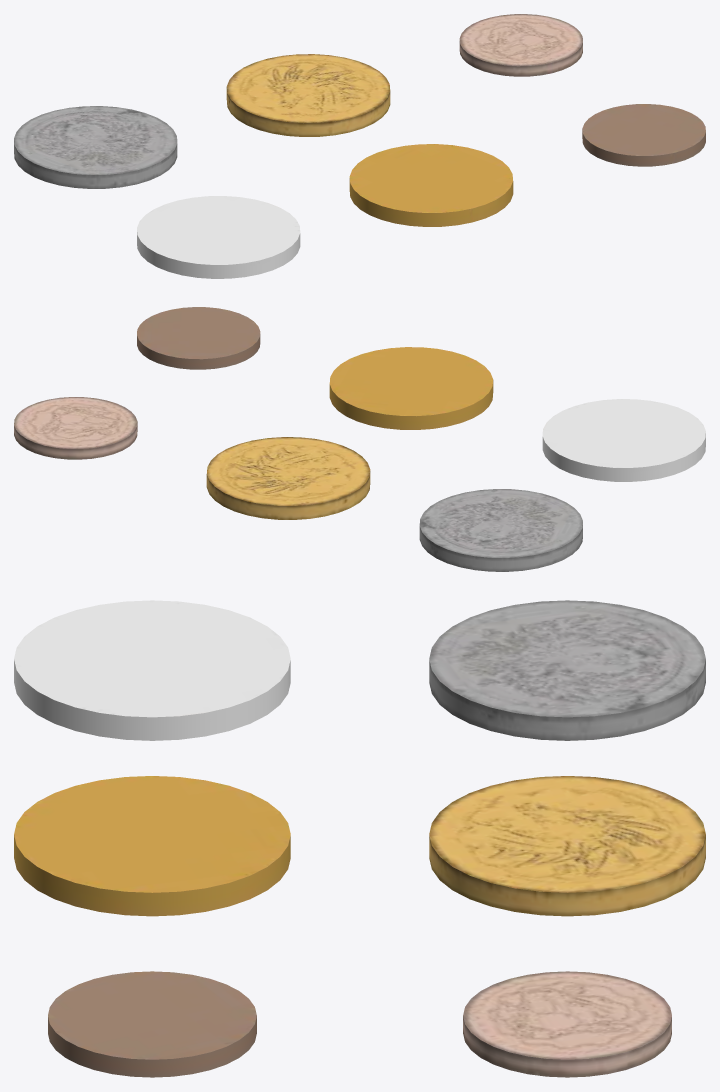
File: moedas.glb
3 views of the same model, one above another, from view 1: azimuth 30°, elevation 25°; view 2: azimuth 150°, elevation 25°; view 3: azimuth 270°, elevation 25° (orthographic). The views are drawn at different scales.
Parts seen in each view (by area): view 1: Coin_Copper-Old_Coins_0; view 2: Coin_Copper-Old_Coins_0; view 3: Coin_Copper-Old_Coins_0.
Boxes of the visible parts, box(x1,y1,x2,y2) form: Coin_Copper-Old_Coins_0: box(14, 14, 705, 278); Coin_Copper-Old_Coins_0: box(14, 307, 705, 571); Coin_Copper-Old_Coins_0: box(14, 600, 705, 1077).
Size of the model in its own units: 20.16 by 0.4882 by 12.99.
1 material, 1 textured.
